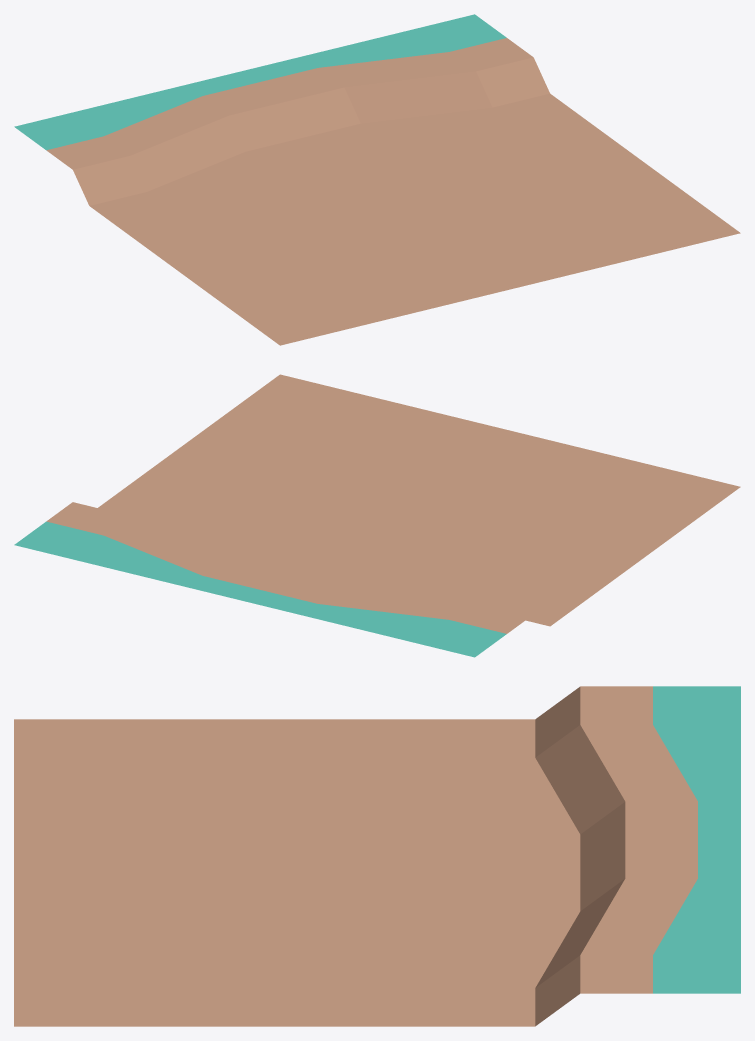
The model's file is ground_pathSide.glb.
The picture shows the model from 3 angles, top to bottom: view 1: azimuth 30°, elevation 25°; view 2: azimuth 150°, elevation 25°; view 3: azimuth 270°, elevation 25°; orthographic projection. The views are drawn at different scales.
Parts seen in each view (by area): view 1: ground_pathSide; view 2: ground_pathSide; view 3: ground_pathSide.
Boxes of the visible parts, bbox=[...] form: ground_pathSide: bbox=[14, 14, 740, 345]; ground_pathSide: bbox=[14, 374, 740, 657]; ground_pathSide: bbox=[14, 686, 740, 1026].
Size of the model in its own units: 1 by 0.05 by 1.
